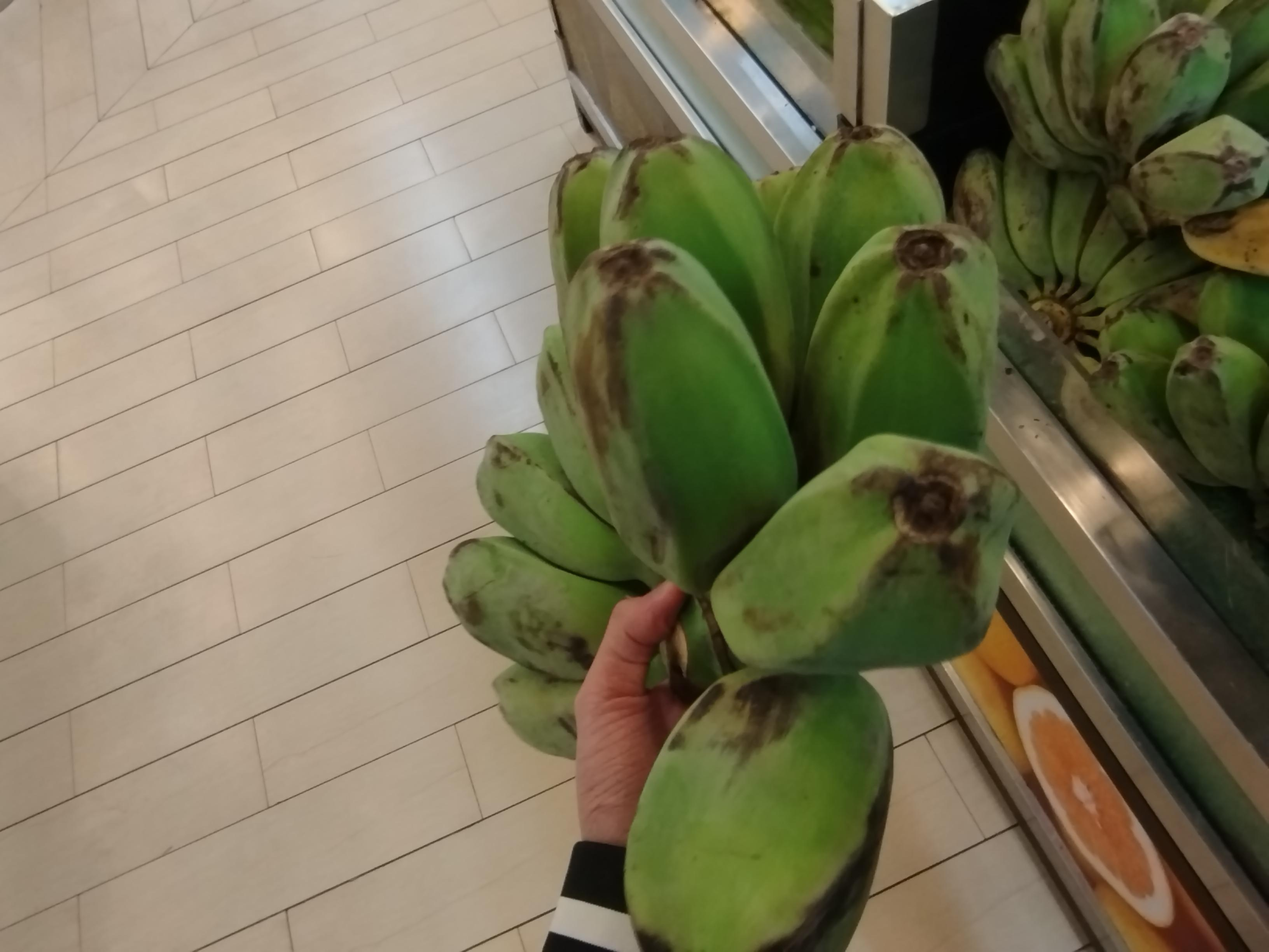underripe: (444, 123, 1019, 951), (986, 0, 1269, 225), (949, 140, 1216, 340), (1089, 272, 1269, 492)
